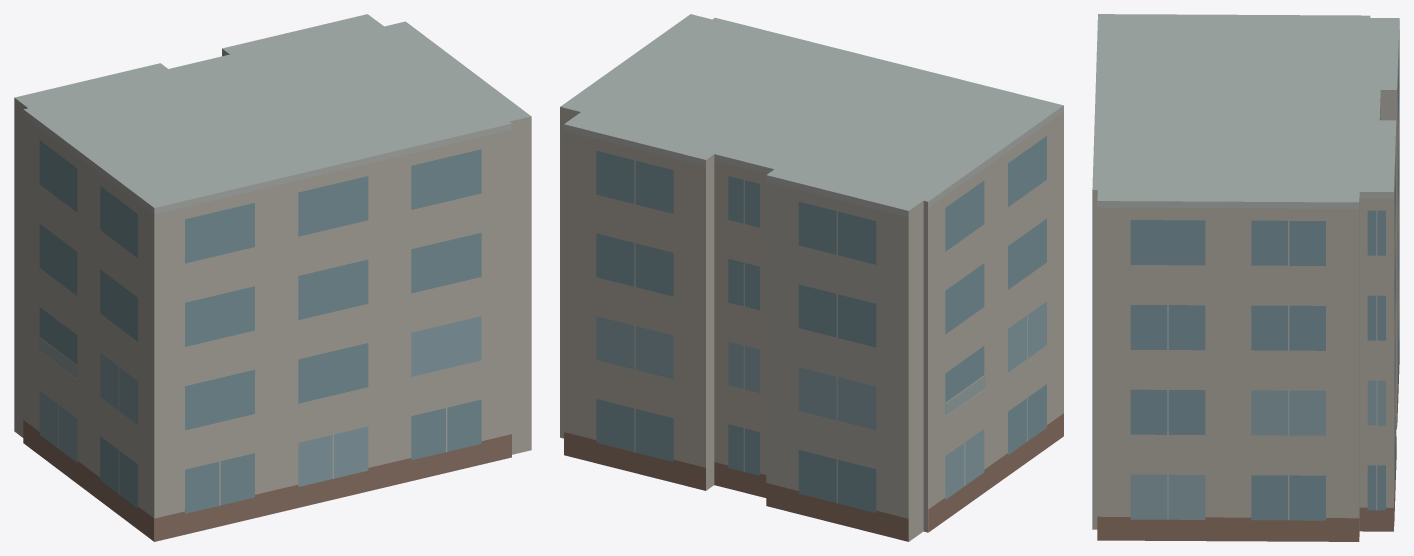
File: survey-upis-32979959.glb
3 views of the same model, side by side, from view 1: azimuth 30°, elevation 25°; view 2: azimuth 150°, elevation 25°; view 3: azimuth 270°, elevation 25° (orthographic). The views are drawn at different scales.
Visible parts, largest first — view 1: survey-upis-32979959.tmp; view 2: survey-upis-32979959.tmp; view 3: survey-upis-32979959.tmp.
Boxes of the visible parts, x1,y1,x2,y2 form: survey-upis-32979959.tmp: [14, 14, 531, 541]; survey-upis-32979959.tmp: [560, 14, 1063, 541]; survey-upis-32979959.tmp: [1092, 14, 1399, 541].
Bounding box in the file's own units: 15.25 × 12.8 × 10.51.
